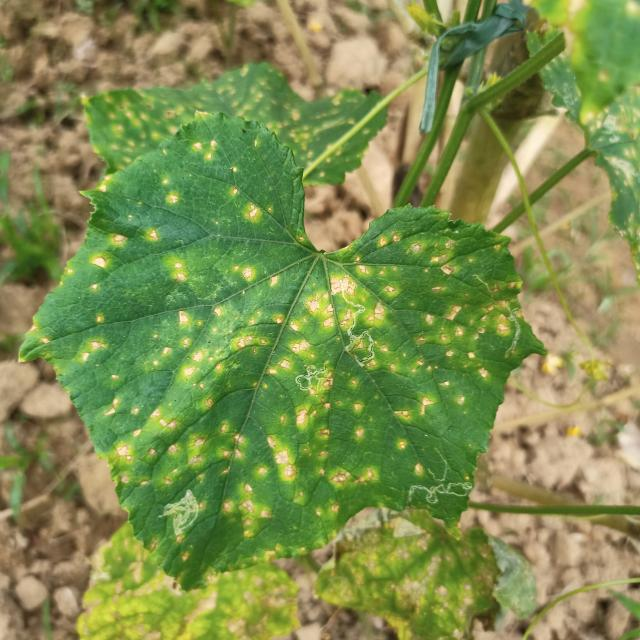disease_cucumber: (73, 274, 530, 576), (359, 230, 460, 278), (90, 228, 160, 268), (226, 186, 271, 226), (230, 264, 281, 287), (159, 177, 181, 210), (191, 137, 219, 162), (169, 258, 190, 286)
